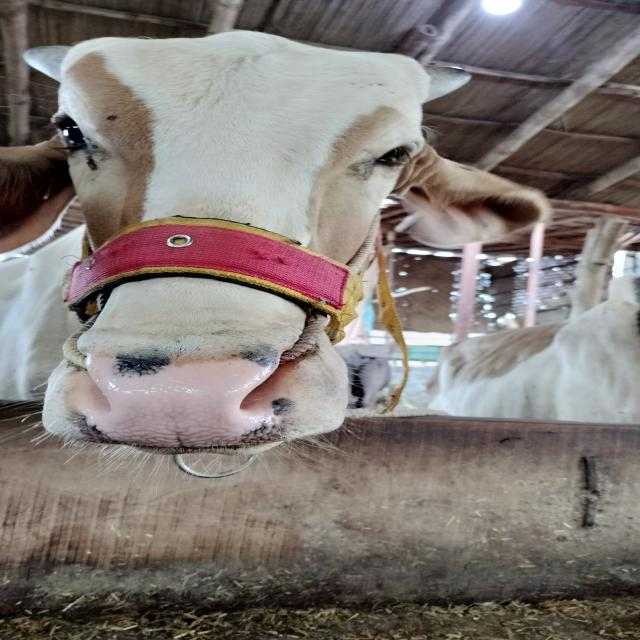muzzles: (46, 342, 312, 461)
